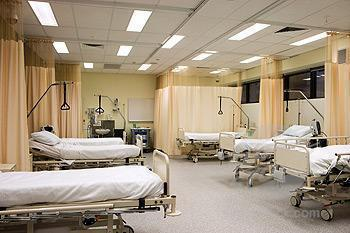Cama: (2, 168, 175, 222), (274, 138, 348, 184), (36, 129, 140, 160), (221, 123, 309, 151)
